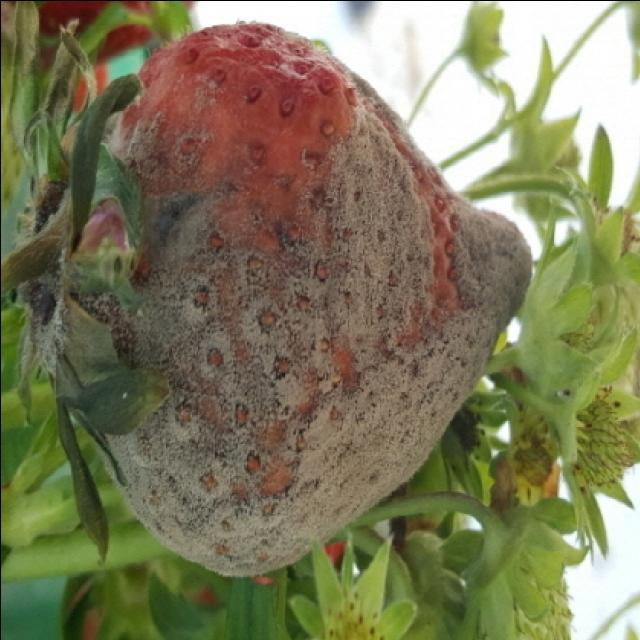Gray Mold: (9, 20, 533, 578)
